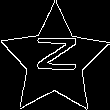N_W: (30, 40, 79, 81)
